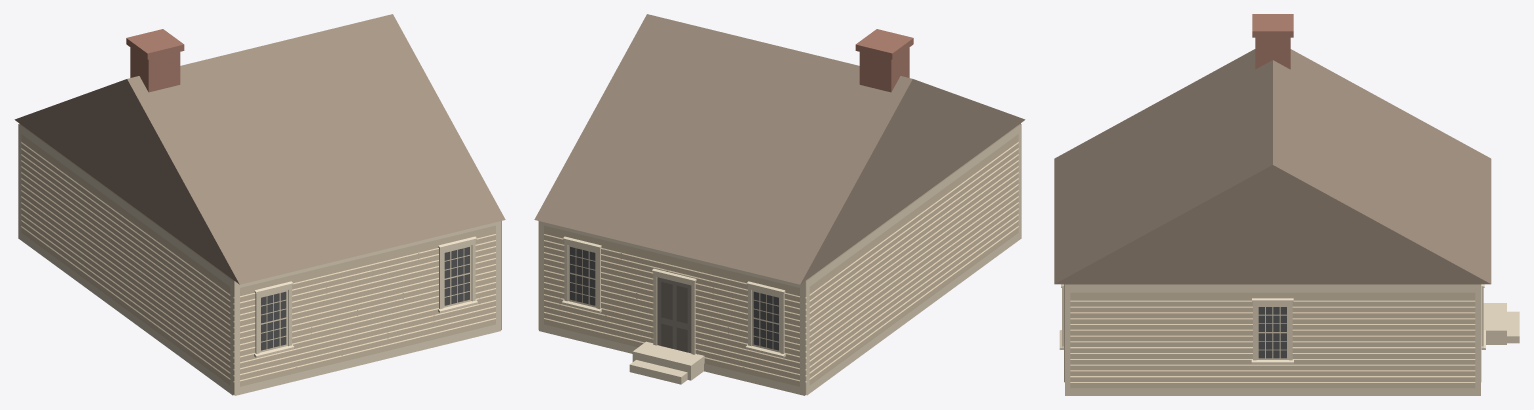
Rendered from recon_1835_north_d5_074__inferred_1835.glb.
3 views of the same model, side by side, from view 1: azimuth 30°, elevation 25°; view 2: azimuth 150°, elevation 25°; view 3: azimuth 270°, elevation 25° (orthographic). The views are drawn at different scales.
Visible parts, largest first — view 1: recon_1835_north_d5_074__inferred_1835; view 2: recon_1835_north_d5_074__inferred_1835; view 3: recon_1835_north_d5_074__inferred_1835.
Boxes of the visible parts, x1,y1,x2,y2 form: recon_1835_north_d5_074__inferred_1835: (14,14,505,395); recon_1835_north_d5_074__inferred_1835: (534,14,1025,395); recon_1835_north_d5_074__inferred_1835: (1054,14,1519,395).
Size of the model in its own units: 7.21 by 6.82 by 11.04.
